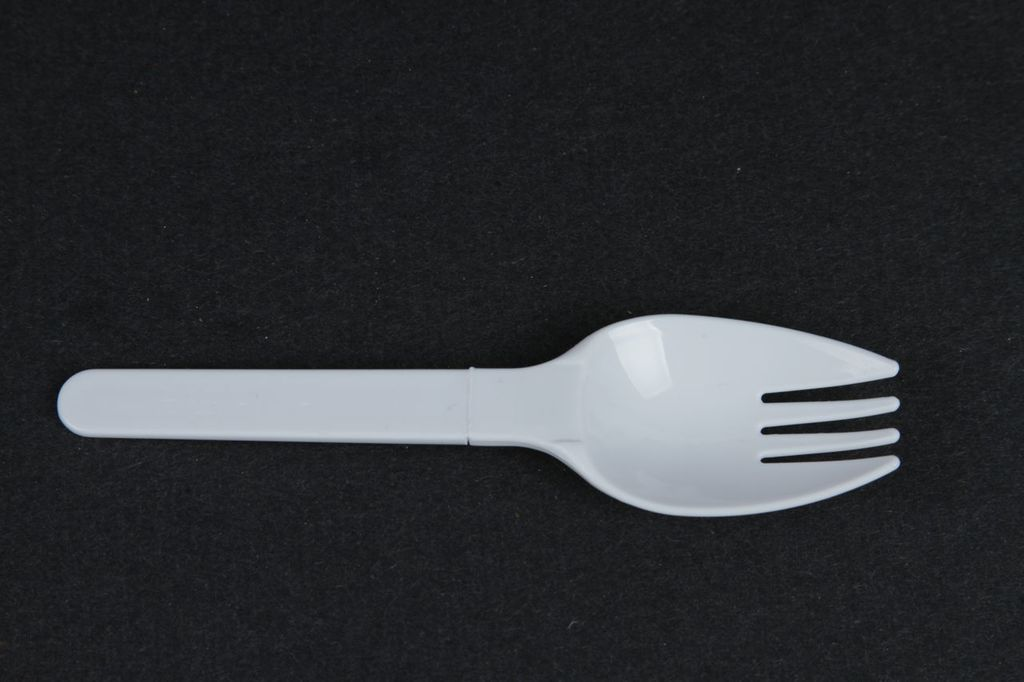fork: (56, 312, 899, 517)
